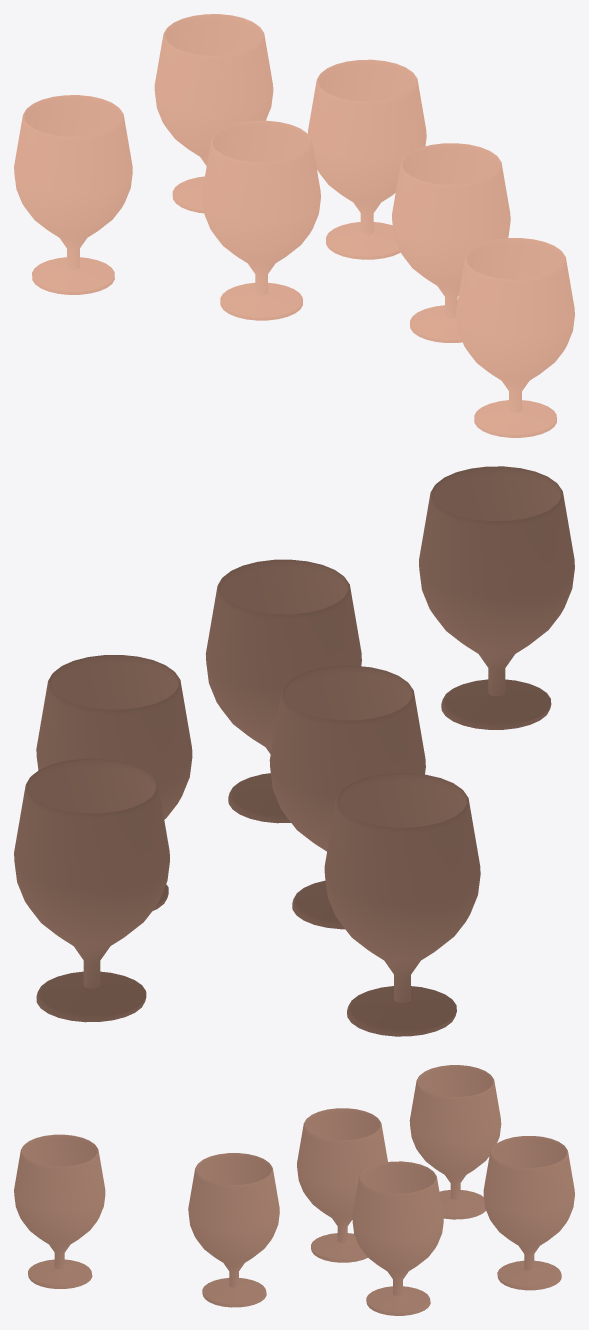
Rendered from WineGlasses_005_3e0d1f06.obj.
3 renders of one model, top to bottom at view 1: azimuth 30°, elevation 25°; view 2: azimuth 150°, elevation 25°; view 3: azimuth 270°, elevation 25°, orthographic. The views are drawn at different scales.
Parts seen in each view (by area): view 1: WineGlasses.005_3e0d1f06; view 2: WineGlasses.005_3e0d1f06; view 3: WineGlasses.005_3e0d1f06.
Part boxes in pixels (left/top/right/bottom): WineGlasses.005_3e0d1f06: left=14, top=14, right=574, bottom=437; WineGlasses.005_3e0d1f06: left=14, top=466, right=574, bottom=1036; WineGlasses.005_3e0d1f06: left=14, top=1065, right=574, bottom=1315.
Size of the model in its own units: 0.3279 by 0.1413 by 0.5756.
